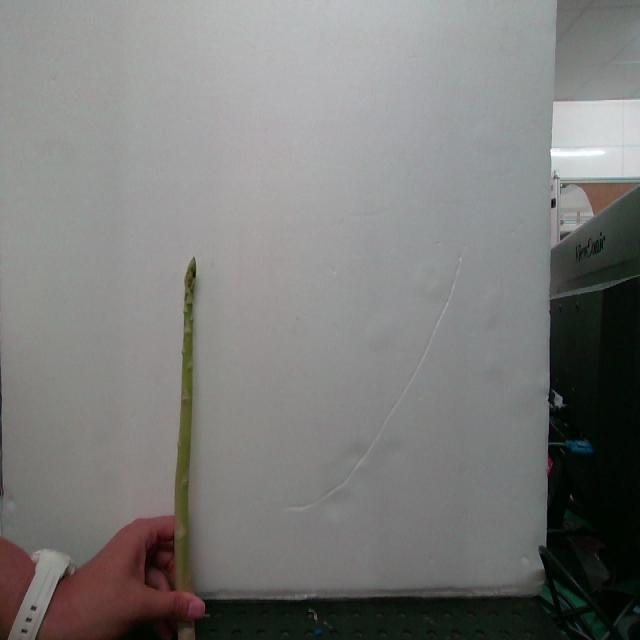aspargus: (175, 258, 199, 598)
